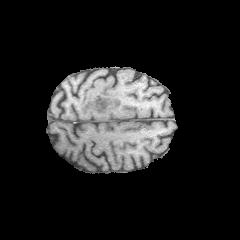glioma: (84, 90, 121, 114)
